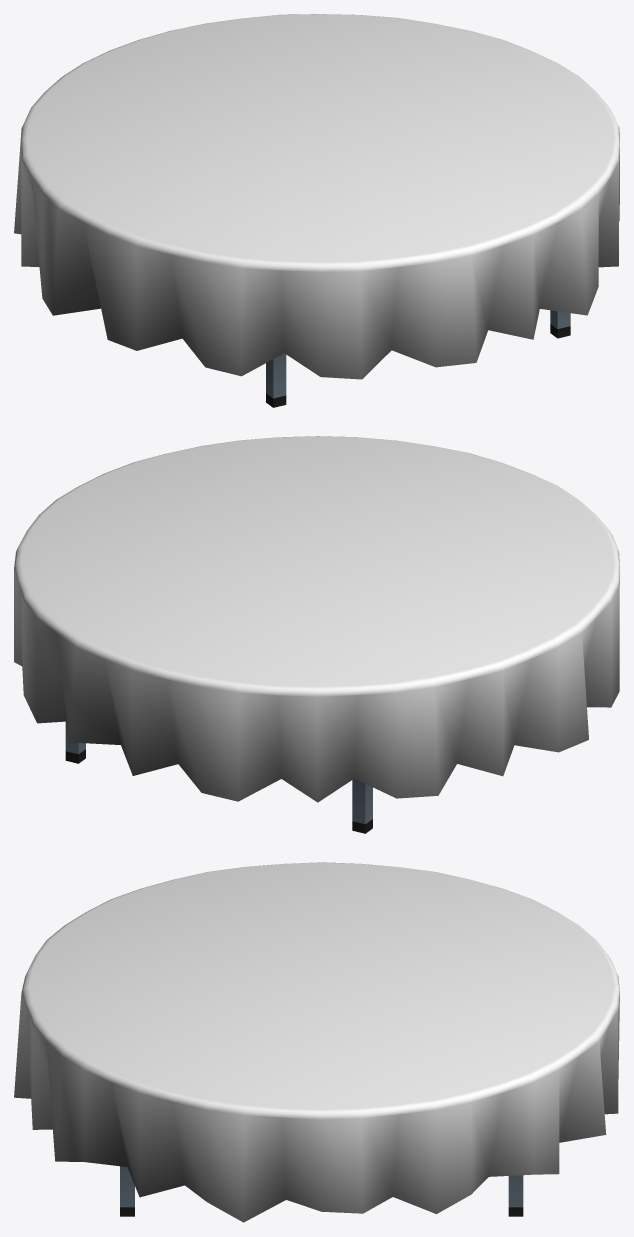
Rendered from Table.fbx.
3 renders of one model, top to bottom at view 1: azimuth 30°, elevation 25°; view 2: azimuth 150°, elevation 25°; view 3: azimuth 270°, elevation 25°, orthographic.
Parts seen in each view (by area): view 1: Table; view 2: Table; view 3: Table.
Part boxes in pixels (box(x1,y1,x2,y2)): Table: box(14, 14, 619, 407); Table: box(14, 436, 619, 833); Table: box(14, 862, 619, 1222).
Size of the model in its own units: 377 by 108 by 373.
